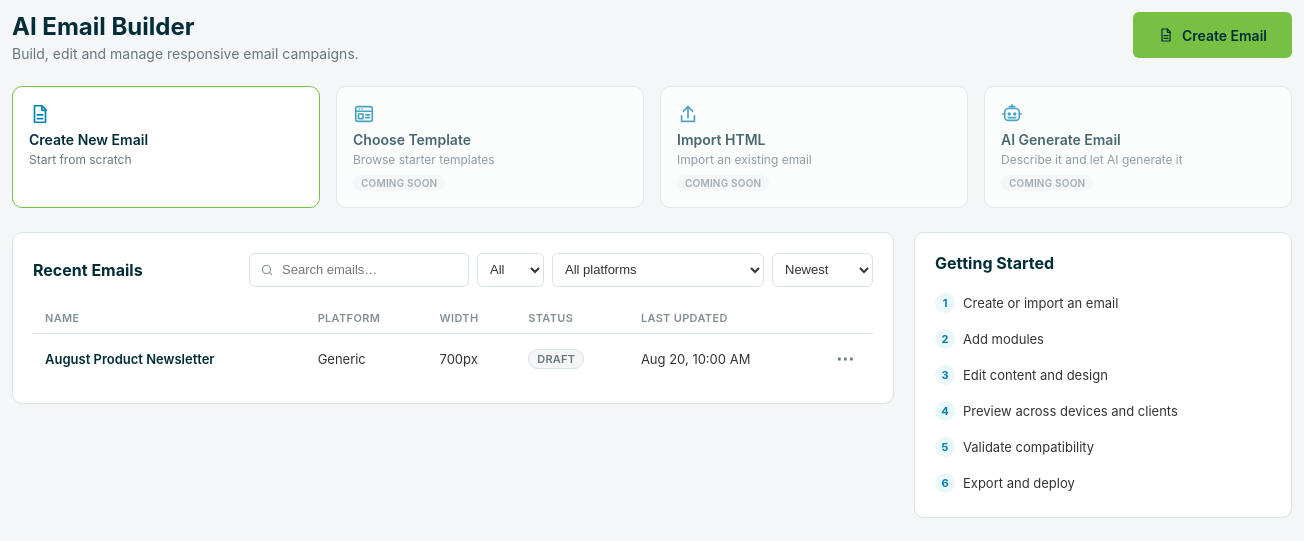
Test: EmailBuilderDashboardPage — row actions › Escape closes the row action menu
Expected: the link "August Product Newsletter" is shown, [45,350,214,366]
Click the button named "Actions for". click: (845, 358)
box: [829,342,861,374]
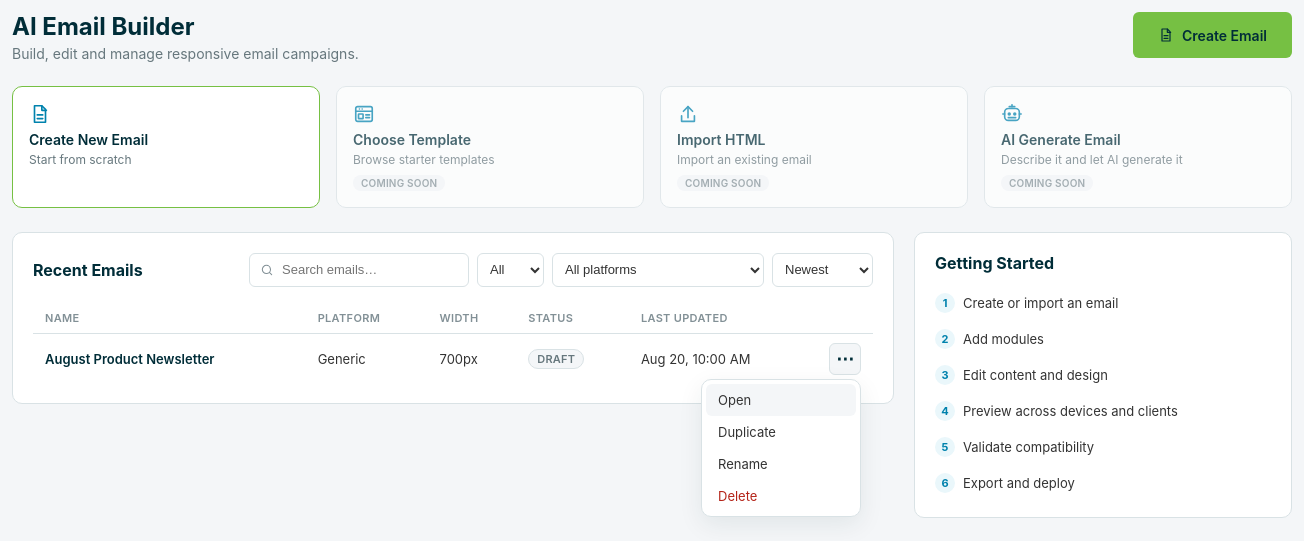
Result: the menu item "Open" is shown at [706,384,856,416]
Press Escape
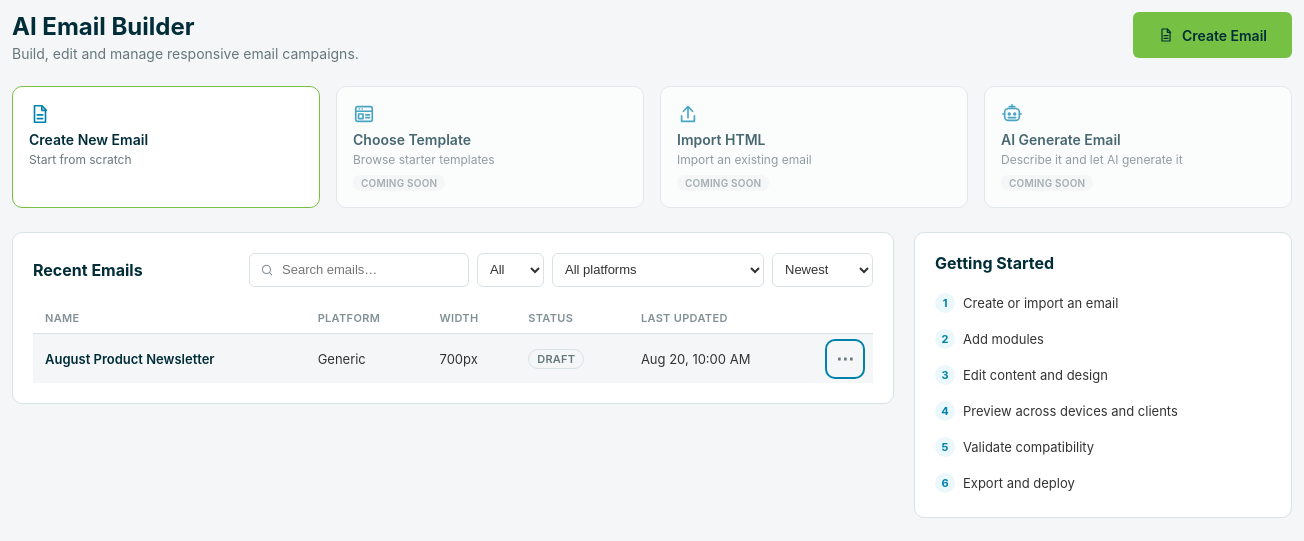
Result: the menu item "Open" is gone
